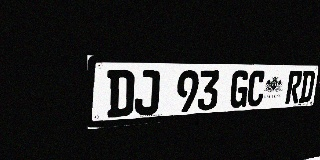3: (197, 70, 220, 111)
9: (176, 70, 200, 112)
C: (246, 70, 266, 107)
D: (107, 70, 135, 118), (298, 71, 316, 103)
G: (229, 70, 250, 108)
J: (134, 70, 160, 116)
R: (285, 71, 303, 104)
